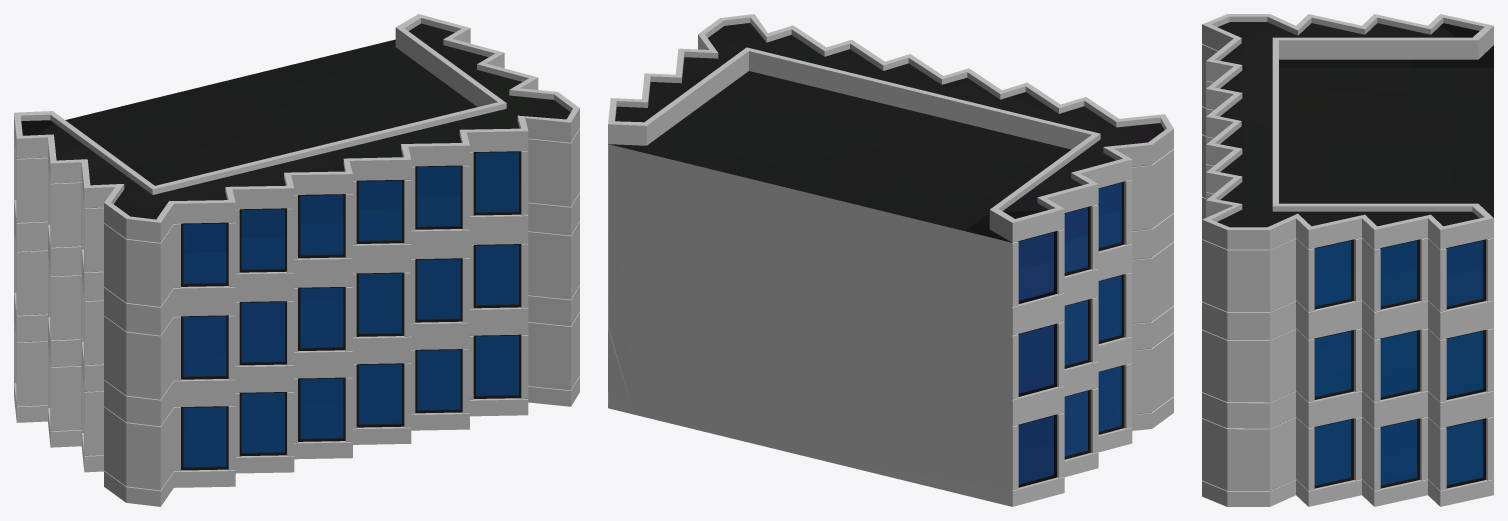
File: CitySkyscraper04.fbx
3 views of the same model, side by side, from view 1: azimuth 30°, elevation 25°; view 2: azimuth 150°, elevation 25°; view 3: azimuth 270°, elevation 25° (orthographic). The views are drawn at different scales.
Visible parts, largest first — view 1: SM_City_Skyscraper_02_Mid_02b.mo; view 2: SM_City_Skyscraper_02_Mid_02b.mo; view 3: SM_City_Skyscraper_02_Mid_02b.mo.
Boxes of the visible parts, left/top/right/bottom form: SM_City_Skyscraper_02_Mid_02b.mo: left=14, top=14, right=579, bottom=506; SM_City_Skyscraper_02_Mid_02b.mo: left=608, top=14, right=1173, bottom=506; SM_City_Skyscraper_02_Mid_02b.mo: left=1202, top=14, right=1493, bottom=506.
Size of the model in its own units: 1796 by 1074 by 1025.
